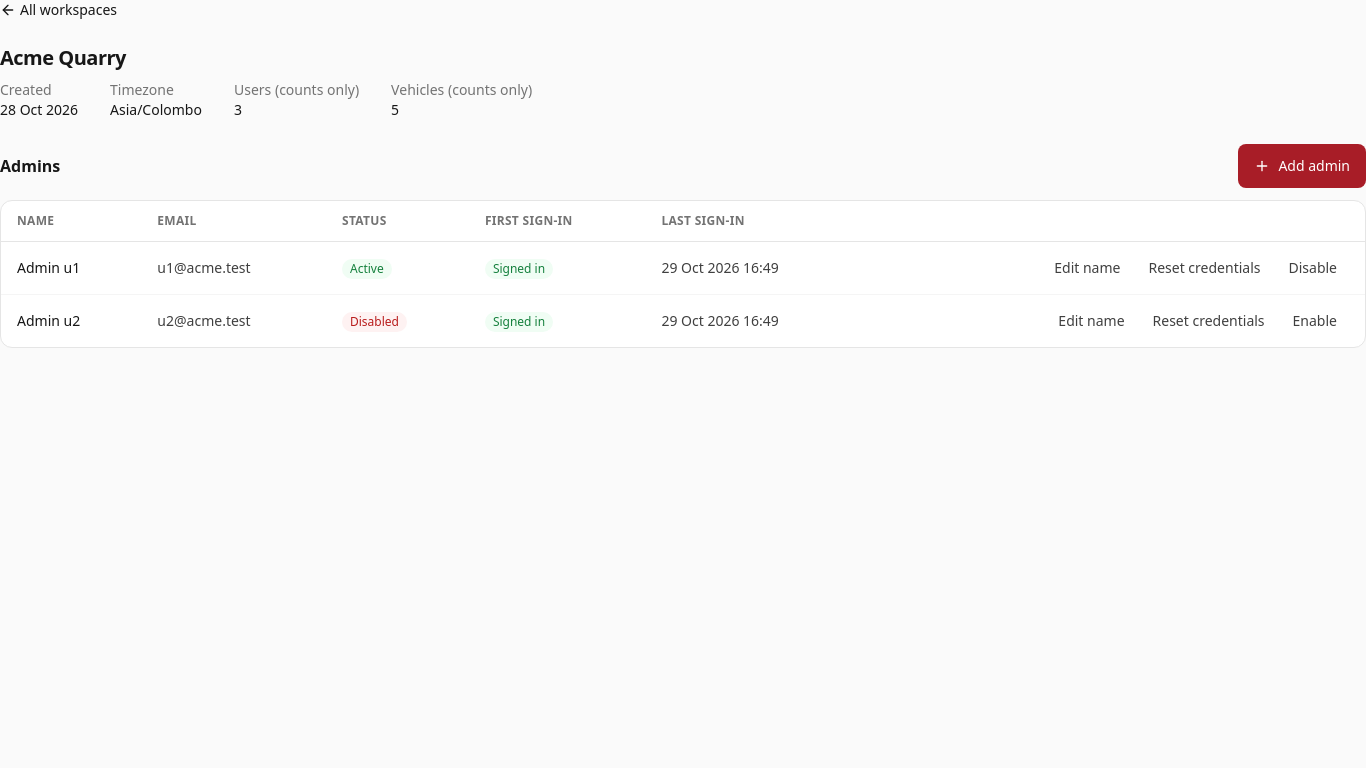
Scenario: Workspace detail page › enable and disable send the right status; add admin shows a one-time card
Click the button with aria-label "Enable: Admin u2" at (1315, 321), box x1=1281 y1=303 x2=1349 y2=339
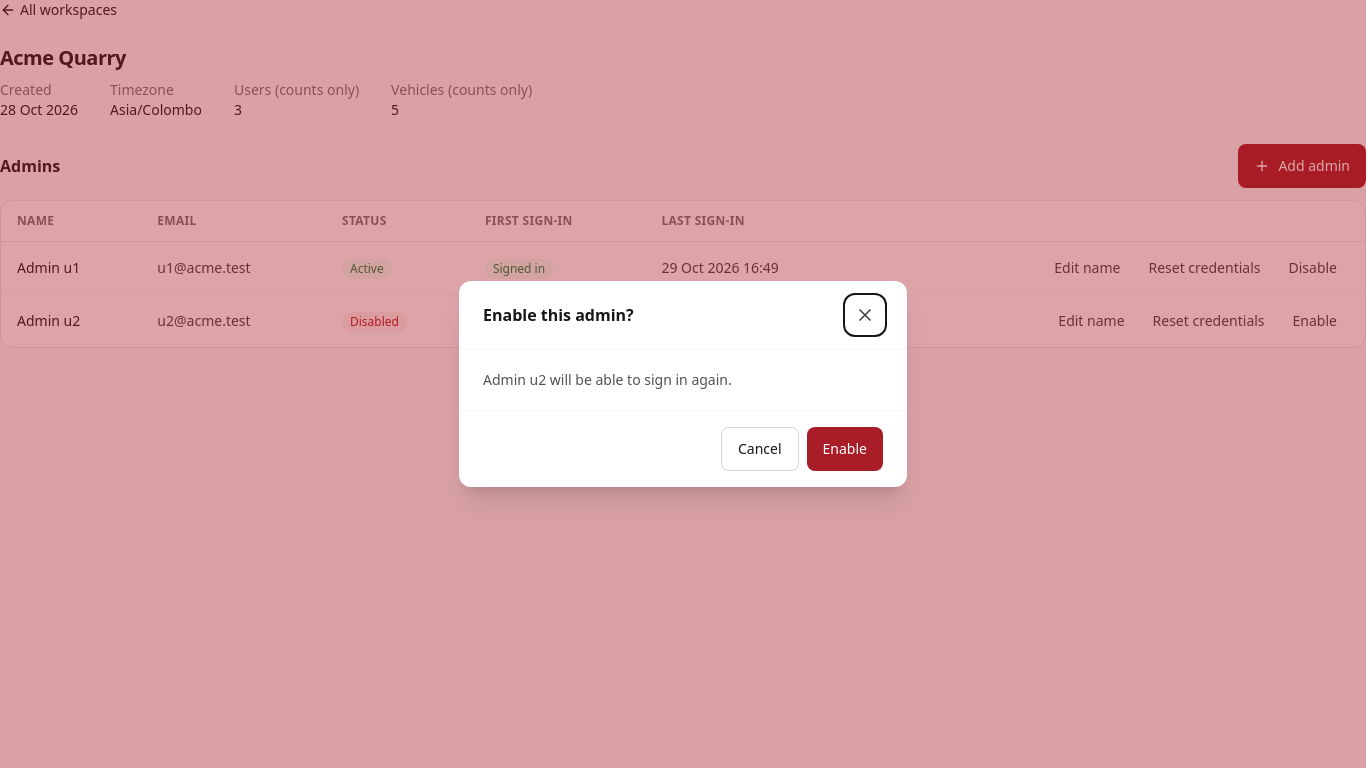
Click the button "Enable" at (845, 449), box x1=807 y1=427 x2=883 y2=471
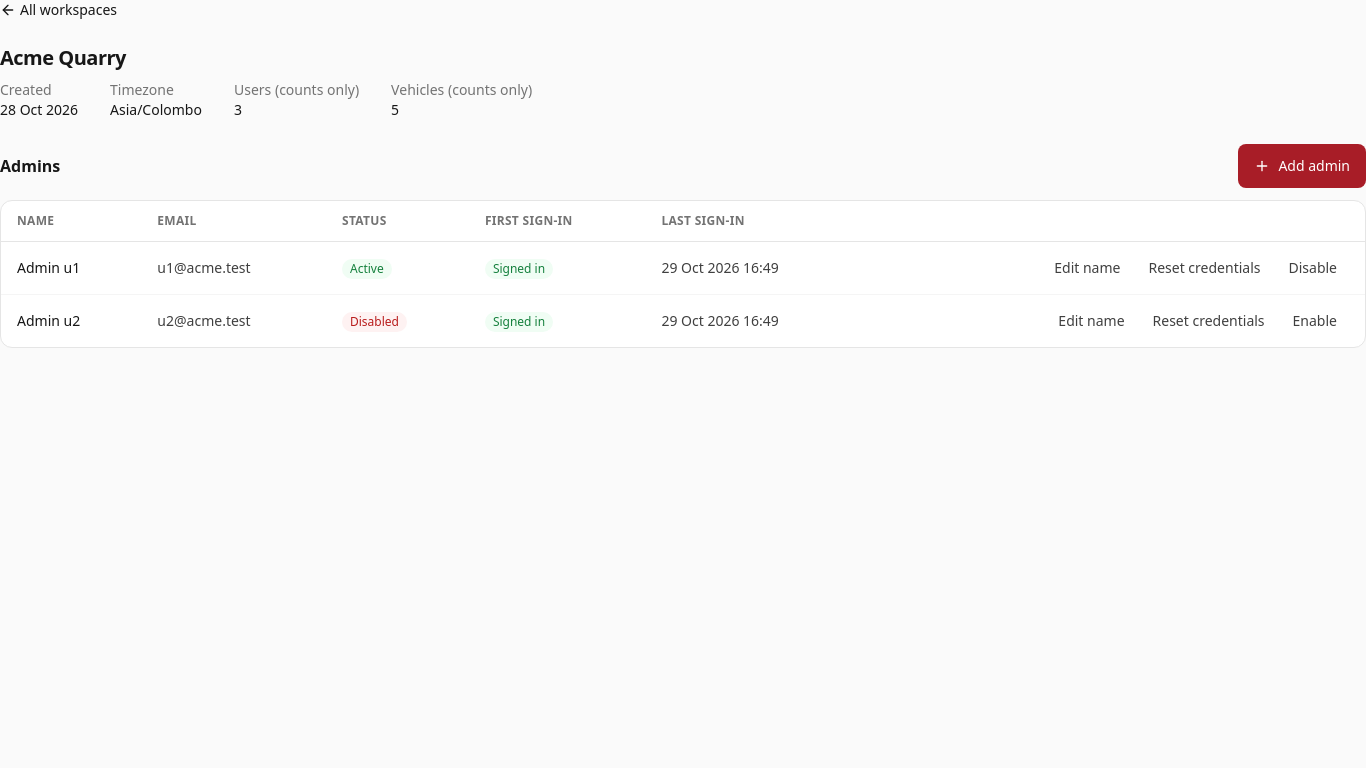
Expected: the dialog is gone
Click the button "Add admin" at (1302, 166), box x1=1238 y1=144 x2=1365 y2=188
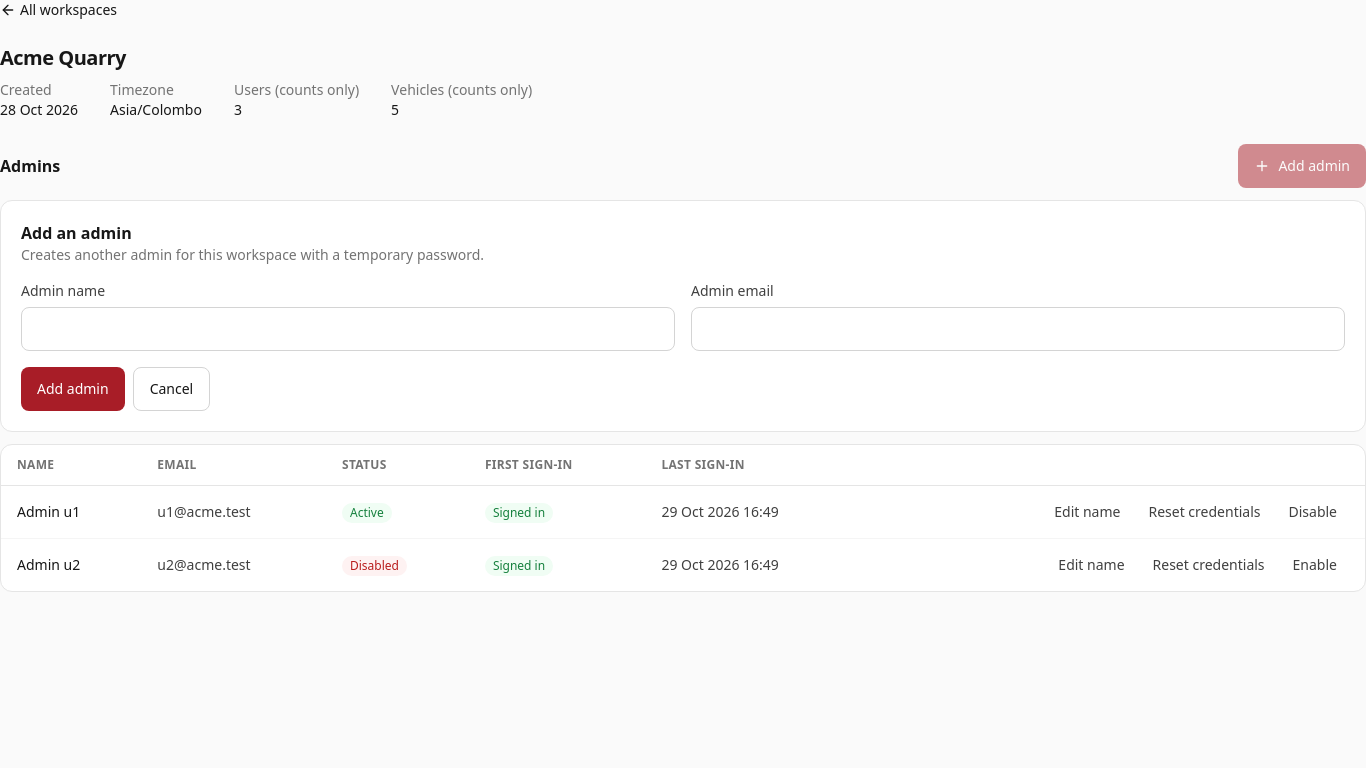
Type "Cy Cee" into the field labelled "Admin name" at (348, 329), box x1=21 y1=307 x2=675 y2=351
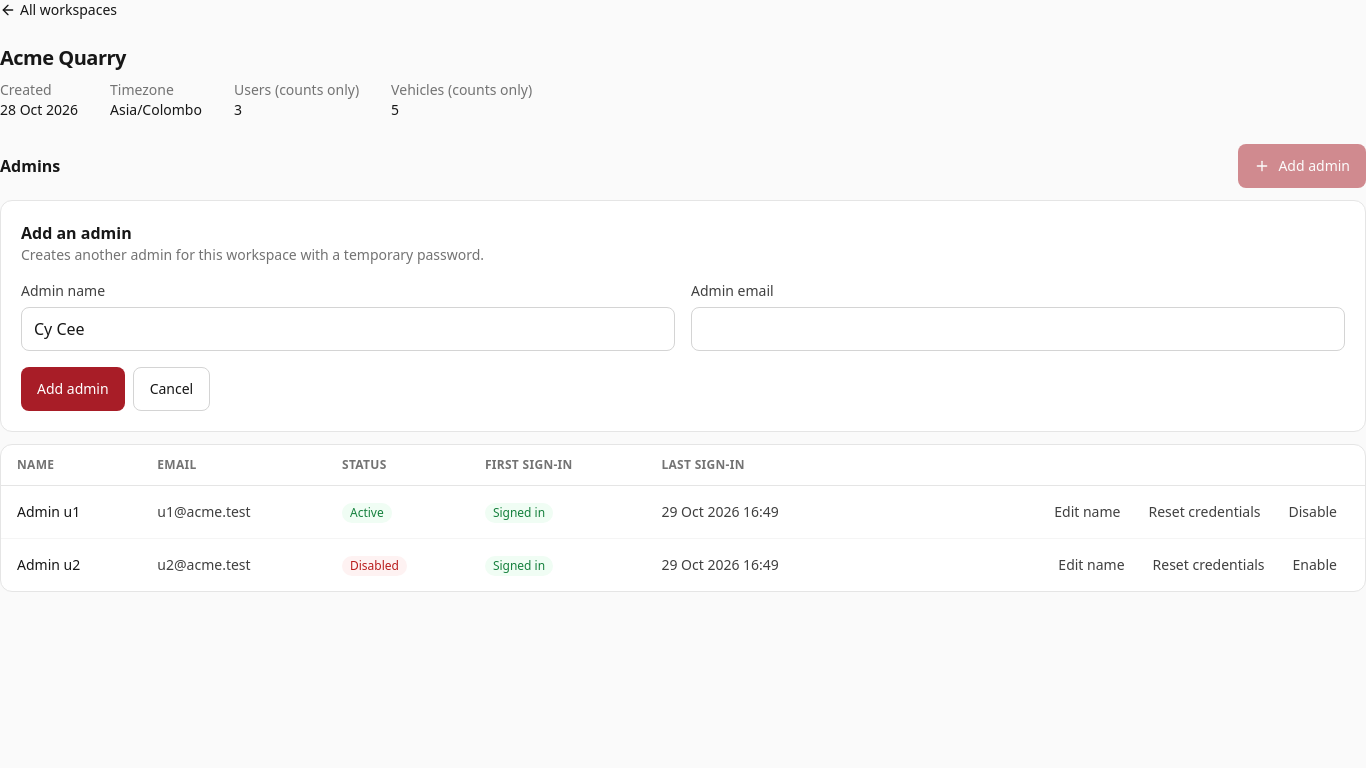
Type "Cy@Acme.test" into the field labelled "Admin email" at (1018, 329), box x1=691 y1=307 x2=1345 y2=351
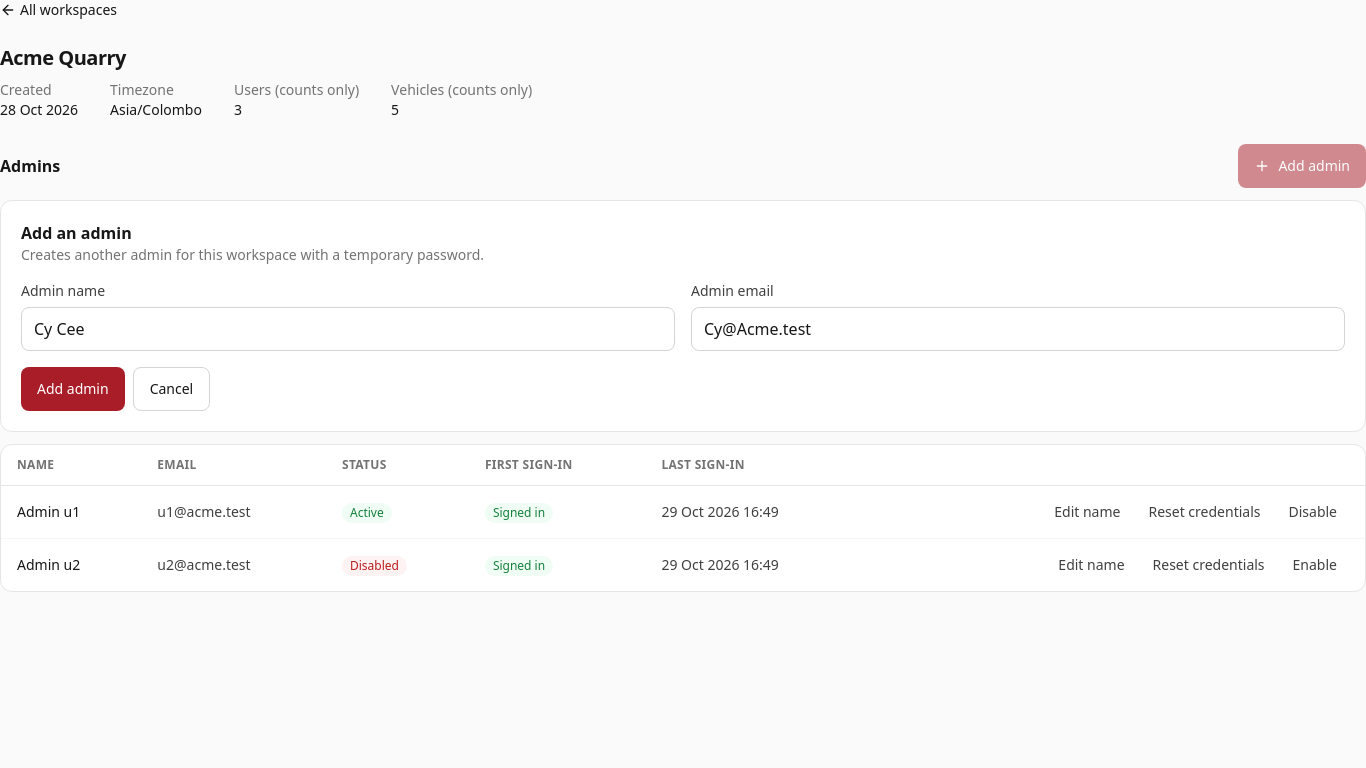
Click the button "Add admin" below "Admin name" at (73, 389), box x1=21 y1=367 x2=125 y2=411
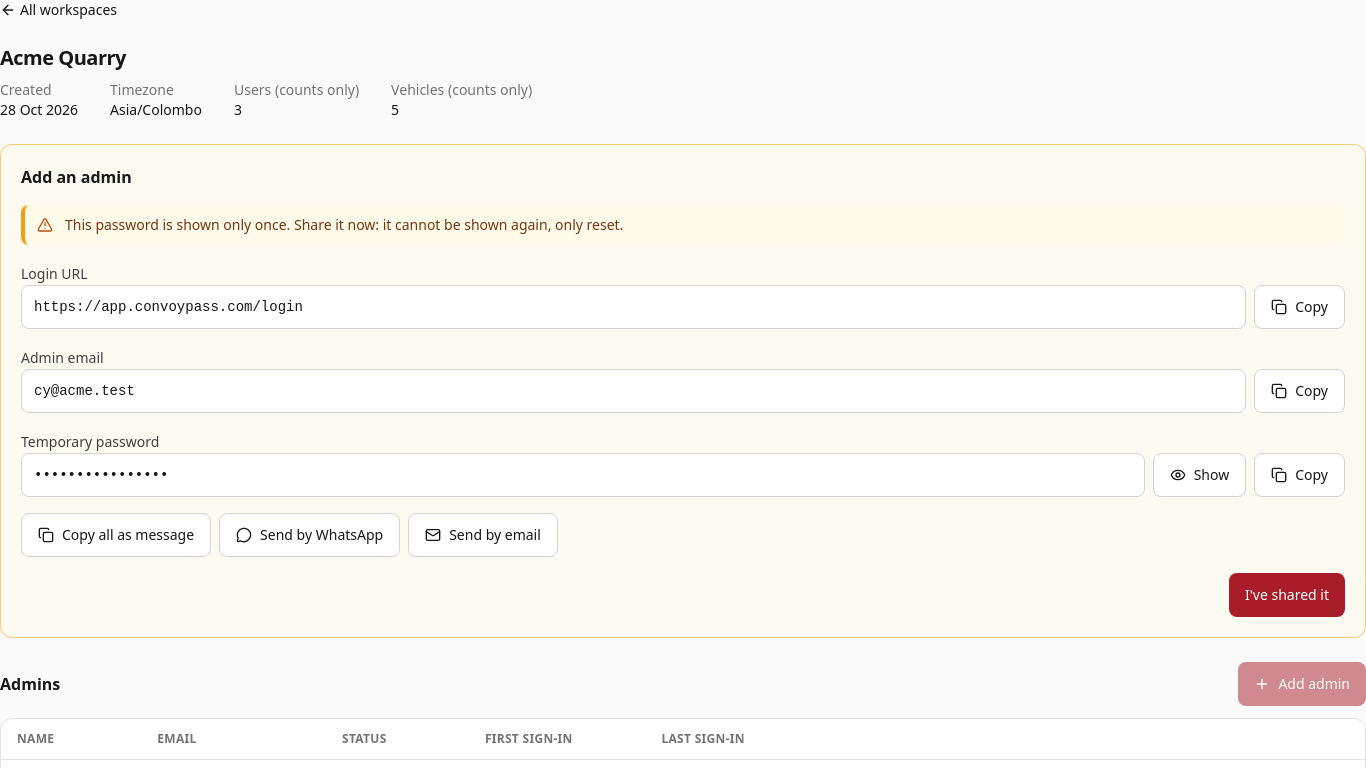
Expected: the password field labelled "Temporary password" is shown, x1=21 y1=453 x2=1145 y2=497
